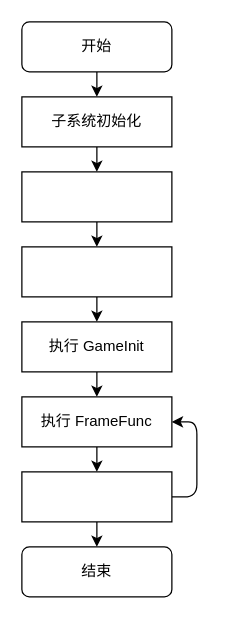
This 229x619 diagram has some shape labels left out. The shapes that lost their labels are listed below. From the top down, each one's centre as x and y in pixels, then its label:
the point at 96,196: 执行 launch
the point at 96,271: 执行 core.lua
the point at 96,496: 执行 RenderFunc
